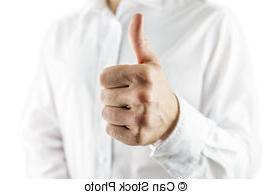thumbsup: (97, 12, 171, 148)
